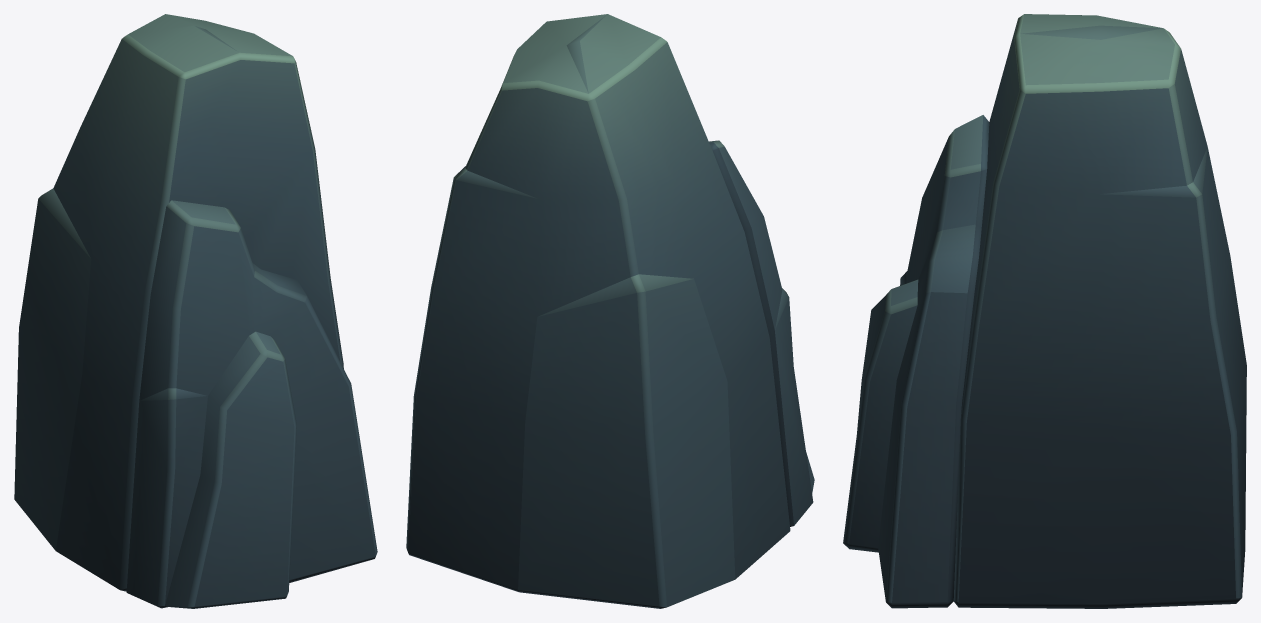
Rendered from rock_30.fbx.
3 views of the same model, side by side, from view 1: azimuth 30°, elevation 25°; view 2: azimuth 150°, elevation 25°; view 3: azimuth 270°, elevation 25° (orthographic). The views are drawn at different scales.
Parts seen in each view (by area): view 1: rock_30; view 2: rock_30; view 3: rock_30.
Part boxes in pixels (x1,y1,x2,y2): rock_30: (14, 14, 377, 608); rock_30: (406, 14, 814, 608); rock_30: (843, 14, 1246, 608).
Size of the model in its own units: 850 by 1616 by 1081.
